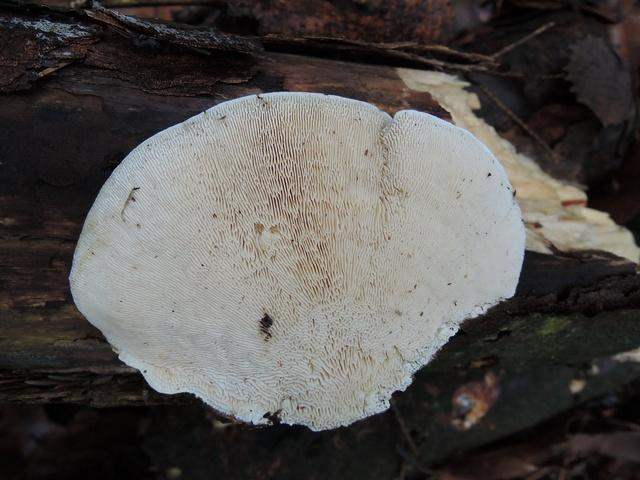poisonous_mushroom: (66, 89, 527, 432)
